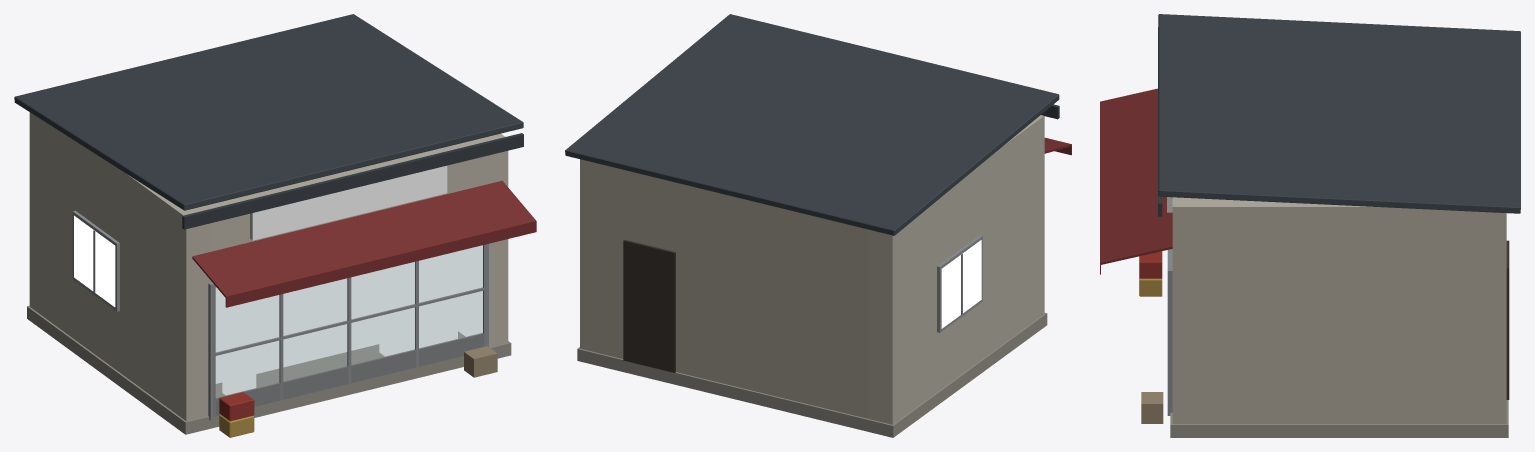
Rendered from building_shop_01.glb.
The picture shows the model from 3 angles, left to right: view 1: azimuth 30°, elevation 25°; view 2: azimuth 150°, elevation 25°; view 3: azimuth 270°, elevation 25°; orthographic projection. The views are drawn at different scales.
Visible parts, largest first — view 1: building_shop_01; view 2: building_shop_01; view 3: building_shop_01.
Boxes of the visible parts, x1,y1,x2,y2 form: building_shop_01: [14, 14, 536, 437]; building_shop_01: [565, 14, 1071, 437]; building_shop_01: [1100, 14, 1520, 437].
Size of the model in its own units: 5.76 by 3.82 by 5.8.
